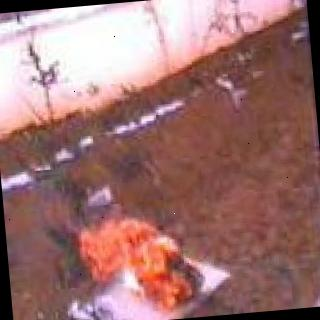fire: (65, 195, 219, 320)
